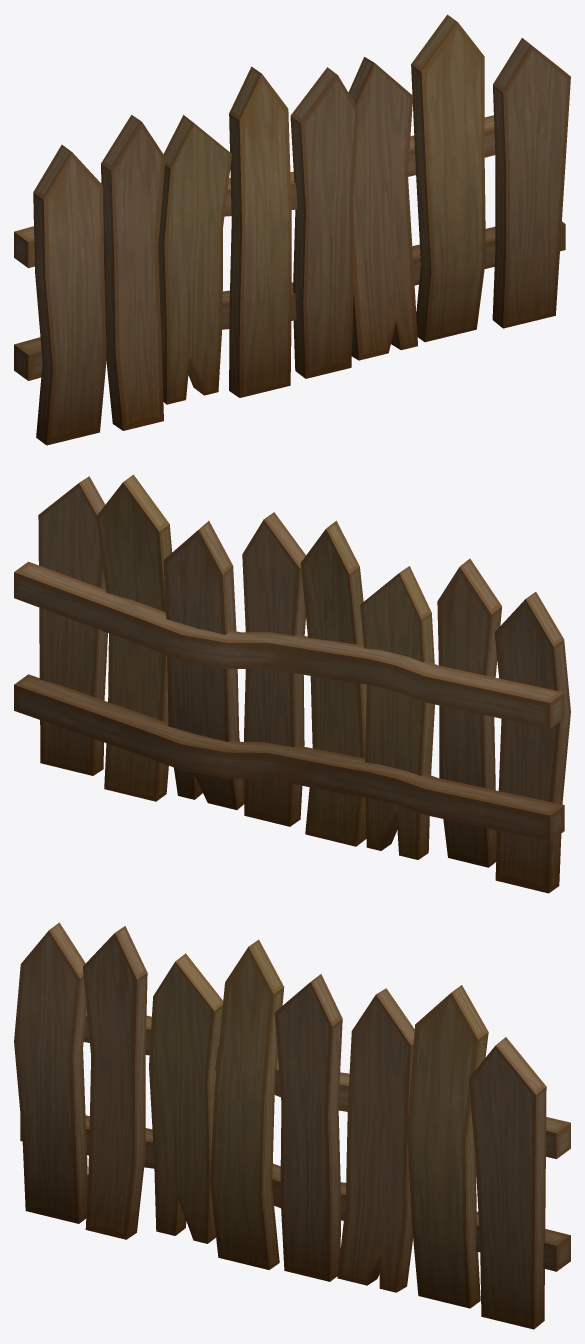
Rendered from SM_wooden_fence_01.glb.
The picture shows the model from 3 angles, top to bottom: view 1: azimuth 30°, elevation 25°; view 2: azimuth 150°, elevation 25°; view 3: azimuth 330°, elevation 25°; orthographic projection.
Visible parts, largest first — view 1: SM_wooden_fence_01; view 2: SM_wooden_fence_01; view 3: SM_wooden_fence_01.
Part boxes in pixels (<box>): SM_wooden_fence_01: <box>14,14,570,445</box>; SM_wooden_fence_01: <box>14,474,570,893</box>; SM_wooden_fence_01: <box>14,922,570,1329</box>.
Size of the model in its own units: 3 by 1.68 by 0.3846.
Materials: 1 (1 with a texture image).
